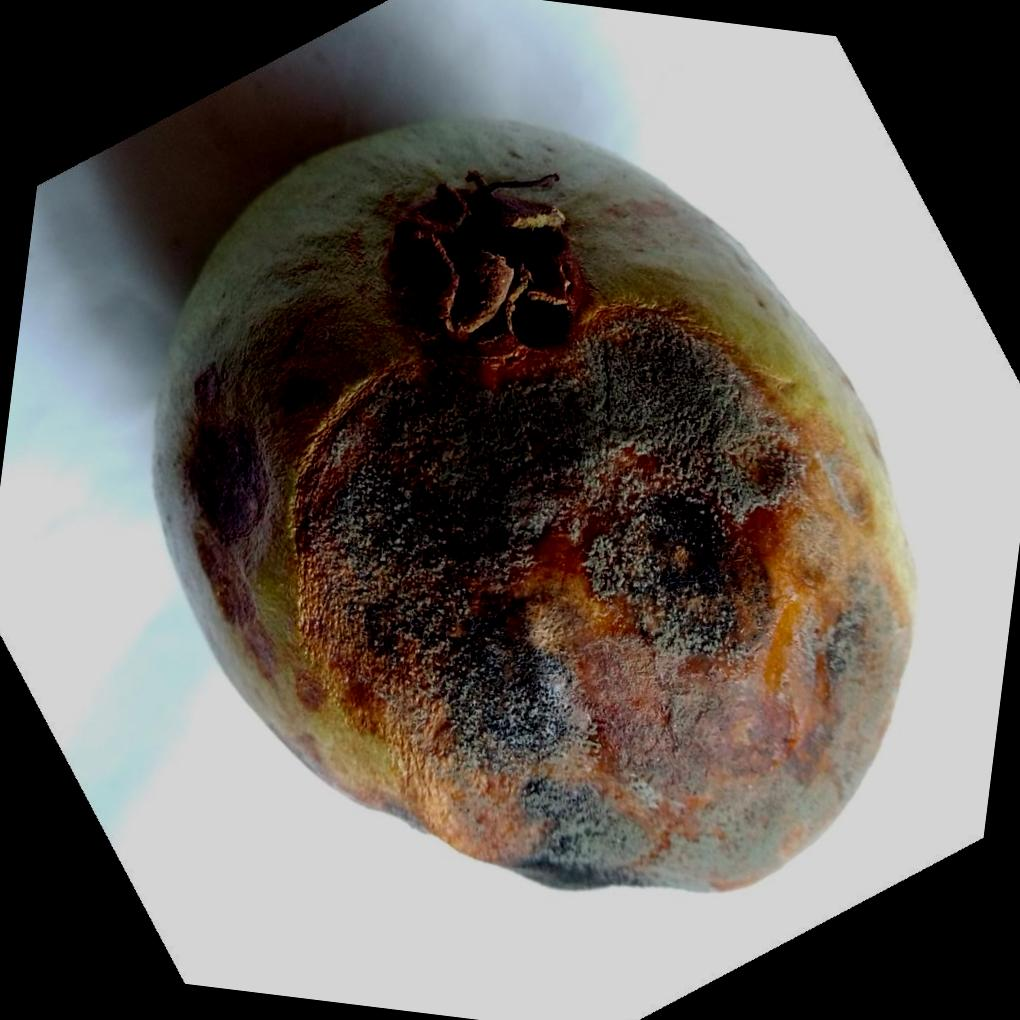FreshOrange: (146, 111, 917, 894)
